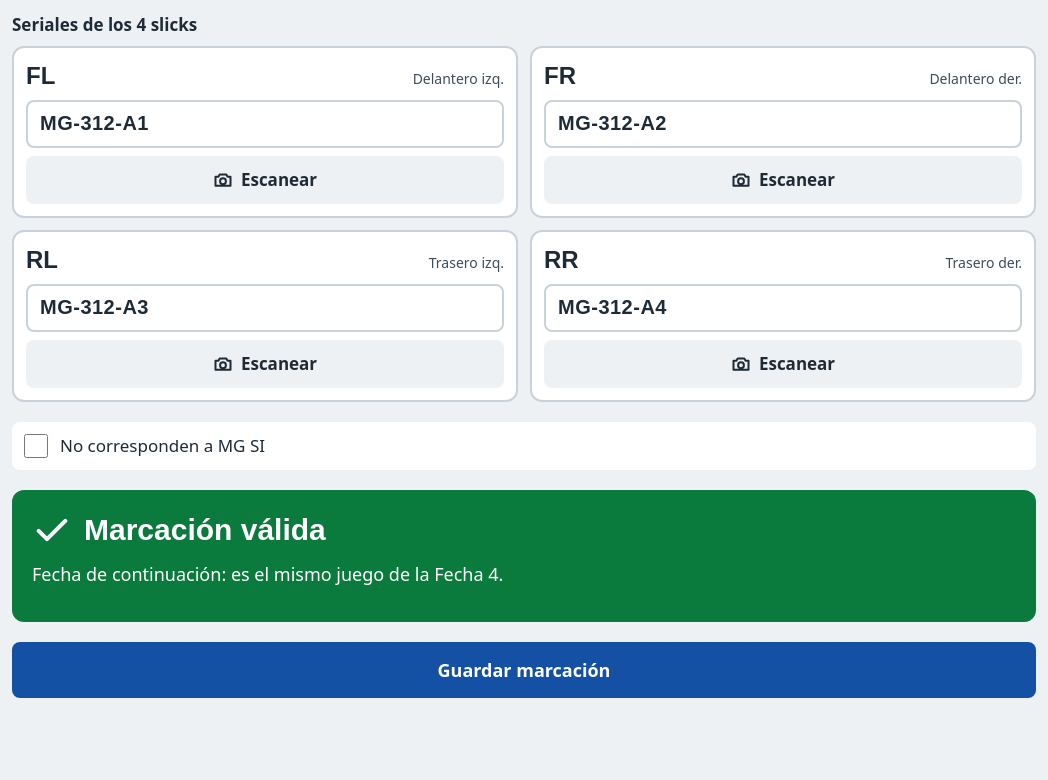
TireMarkingForm — semáforo de la marcación › con seriales incompletos no muestra semáforo
Check: the heading "Marcación válida" is shown, box [84,511,326,548]
Clear the field labelled "RR Trasero der." at (783, 308), box [544,284,1022,332]
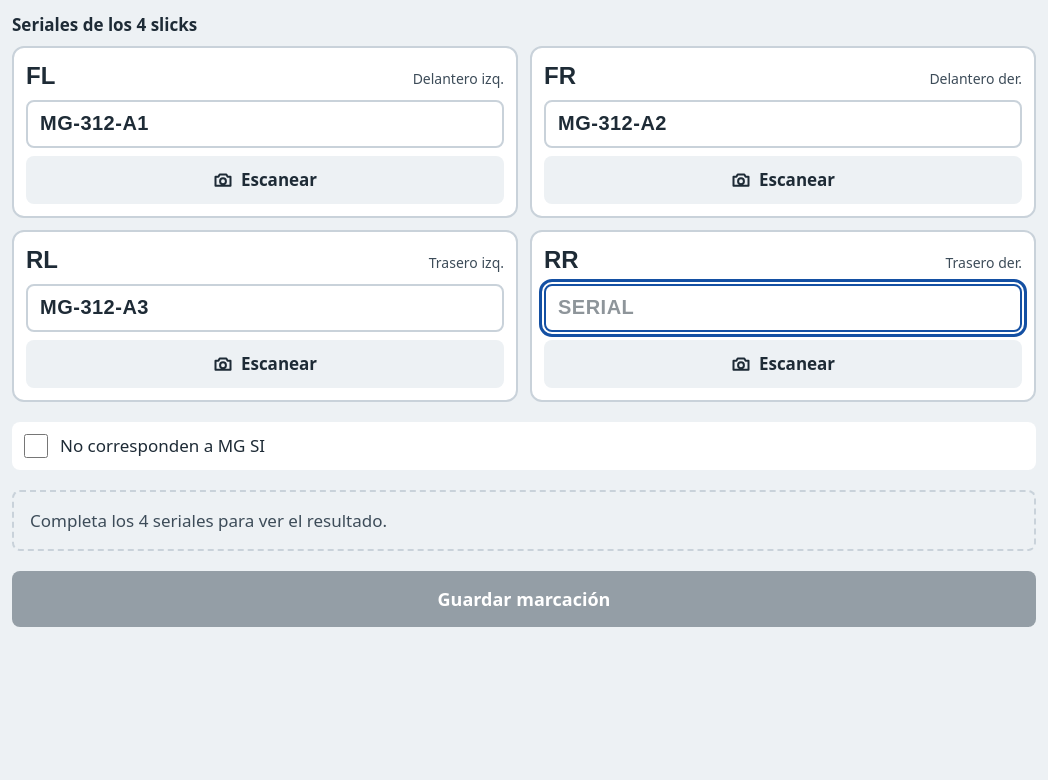
Check: the heading "Marcación válida" is gone
Check: the text "Completa los 4 seriales para ver el resultado." is shown, box [12,490,1036,551]
